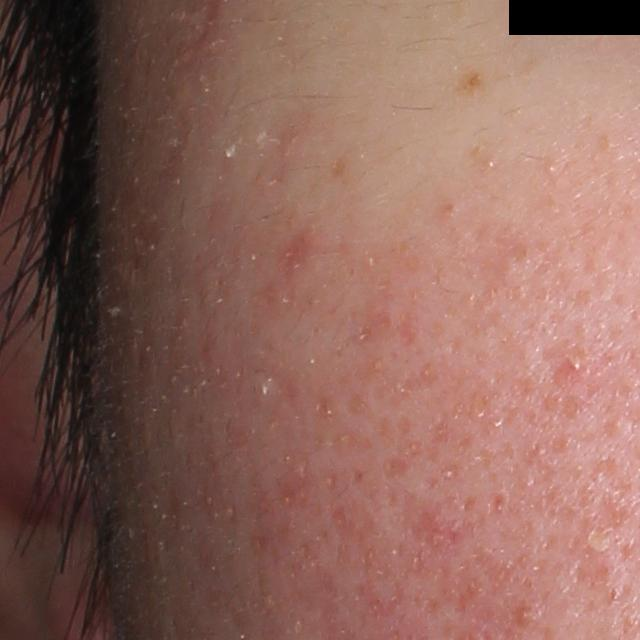comedo: (481, 157, 498, 173), (546, 163, 558, 175)
melasma: (458, 68, 485, 95)
